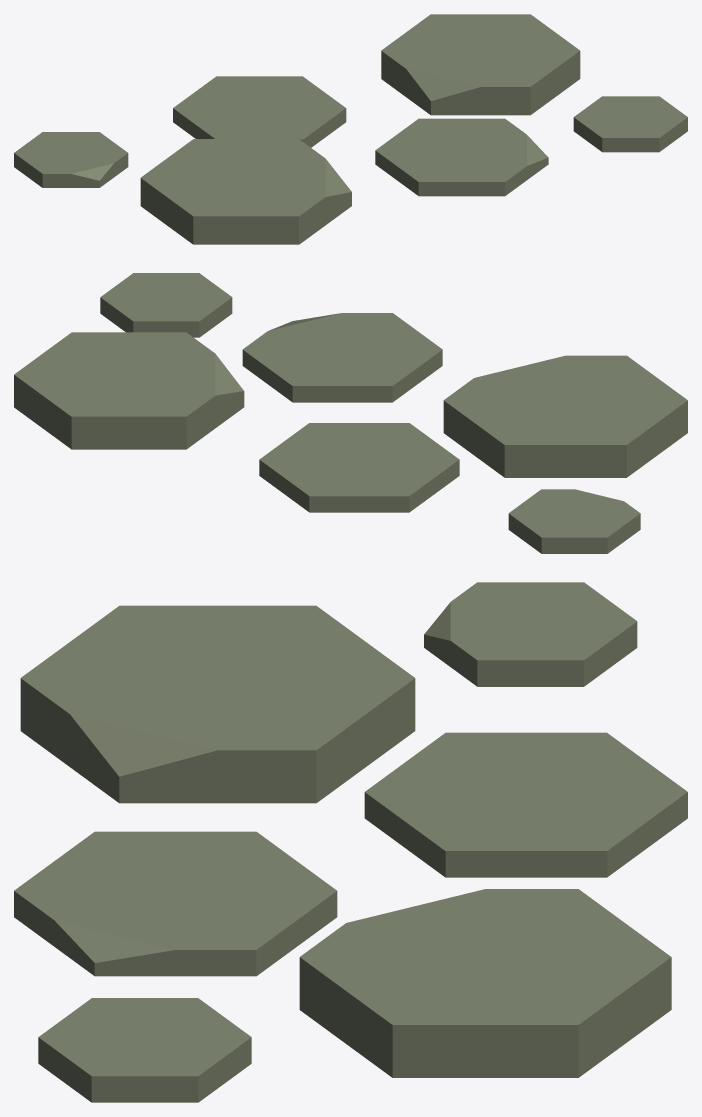
File: kenney_nature-kit__path_stone__meadow.fbx
3 renders of one model, top to bottom at view 1: azimuth 30°, elevation 25°; view 2: azimuth 150°, elevation 25°; view 3: azimuth 270°, elevation 25°, orthographic. The views are drawn at different scales.
Visible parts, largest first — view 1: kenney_nature-kit__path_stone__meadow_stone_stone, kenney_nature-kit__path_stone__meadow_stonedark_stone; view 2: kenney_nature-kit__path_stone__meadow_stone_stone, kenney_nature-kit__path_stone__meadow_stonedark_stone; view 3: kenney_nature-kit__path_stone__meadow_stone_stone, kenney_nature-kit__path_stone__meadow_stonedark_stone.
Boxes of the visible parts, bbox=[...] form: kenney_nature-kit__path_stone__meadow_stone_stone: bbox=[14, 14, 687, 216]; kenney_nature-kit__path_stone__meadow_stonedark_stone: bbox=[14, 51, 687, 244]; kenney_nature-kit__path_stone__meadow_stone_stone: bbox=[14, 273, 687, 537]; kenney_nature-kit__path_stone__meadow_stonedark_stone: bbox=[14, 297, 687, 553]; kenney_nature-kit__path_stone__meadow_stone_stone: bbox=[14, 582, 687, 1076]; kenney_nature-kit__path_stone__meadow_stonedark_stone: bbox=[14, 622, 687, 1102].
Bounding box in the file's own units: 3.57 × 0.1786 × 2.06.
Materials: 1 (1 with a texture image).
